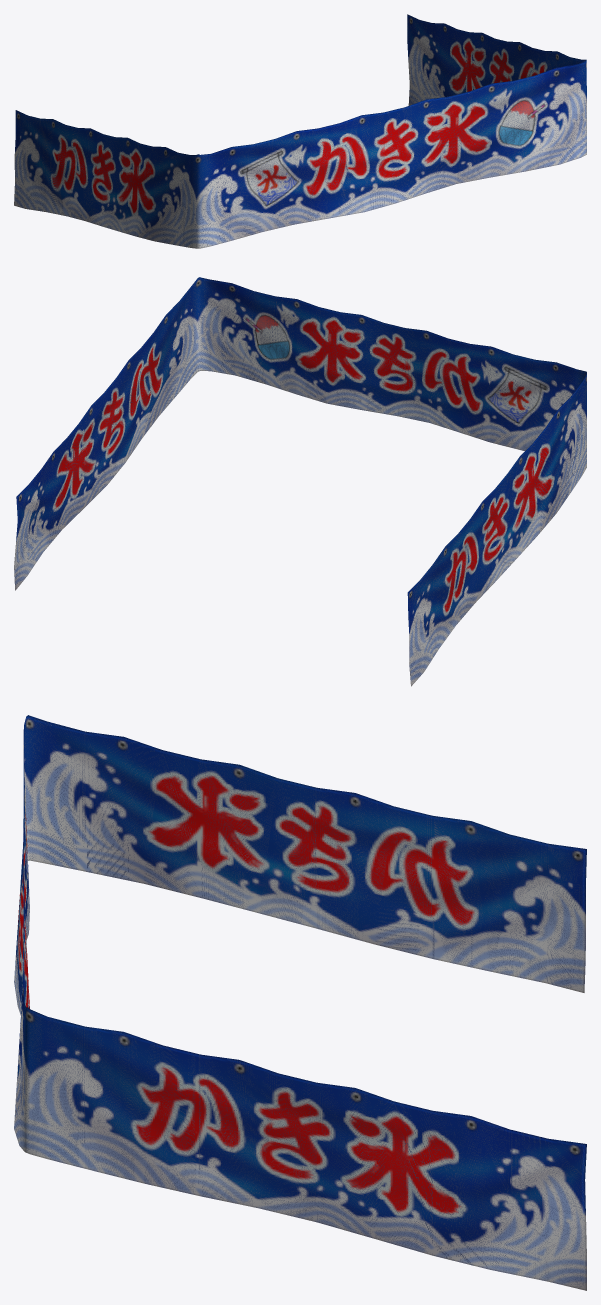
Rendered from jsf_ShopCurtain_ShavedIce_01.fbx.
3 renders of one model, top to bottom at view 1: azimuth 30°, elevation 25°; view 2: azimuth 150°, elevation 25°; view 3: azimuth 270°, elevation 25°, orthographic. The views are drawn at different scales.
Parts seen in each view (by area): view 1: jsf_ShopCurtain_ShavedIce_01; view 2: jsf_ShopCurtain_ShavedIce_01; view 3: jsf_ShopCurtain_ShavedIce_01.
Part boxes in pixels (box(x1,y1,x2,y2)): jsf_ShopCurtain_ShavedIce_01: box(14, 14, 586, 248); jsf_ShopCurtain_ShavedIce_01: box(14, 277, 586, 686); jsf_ShopCurtain_ShavedIce_01: box(14, 715, 586, 1290).
Size of the model in its own units: 268 by 117 by 215.
